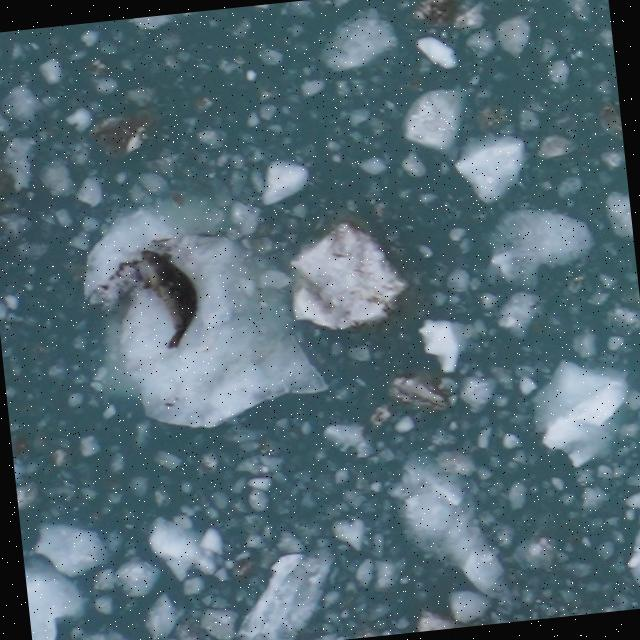seal: (133, 238, 205, 353)
